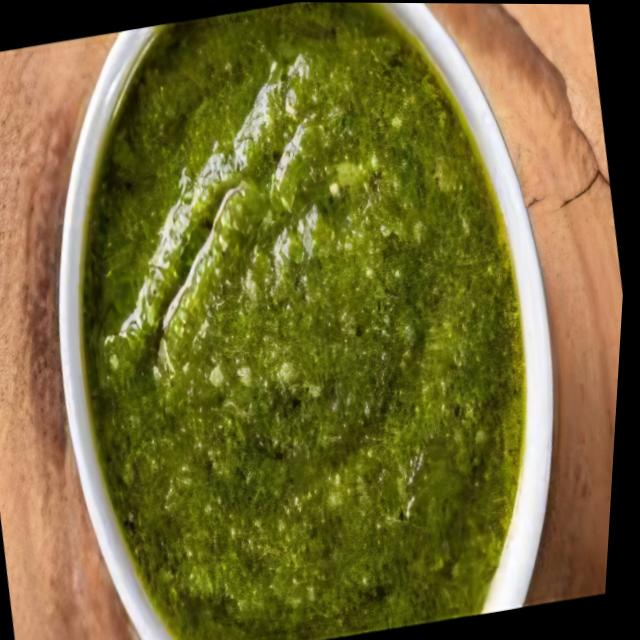GREEN CHUTNEY: (59, 2, 551, 640)
